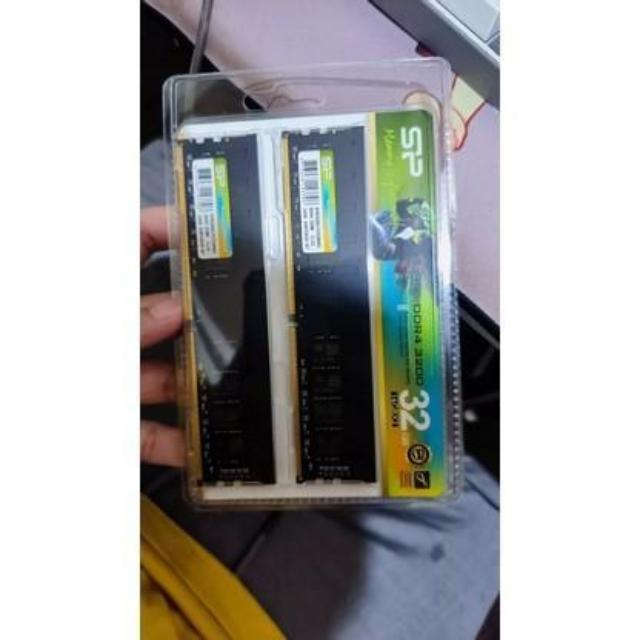RAM: (172, 126, 280, 489), (277, 124, 380, 492)
